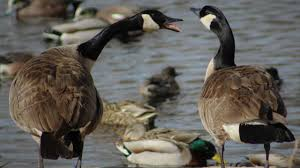goose: (5, 9, 185, 168), (188, 4, 296, 168), (114, 128, 227, 168)
